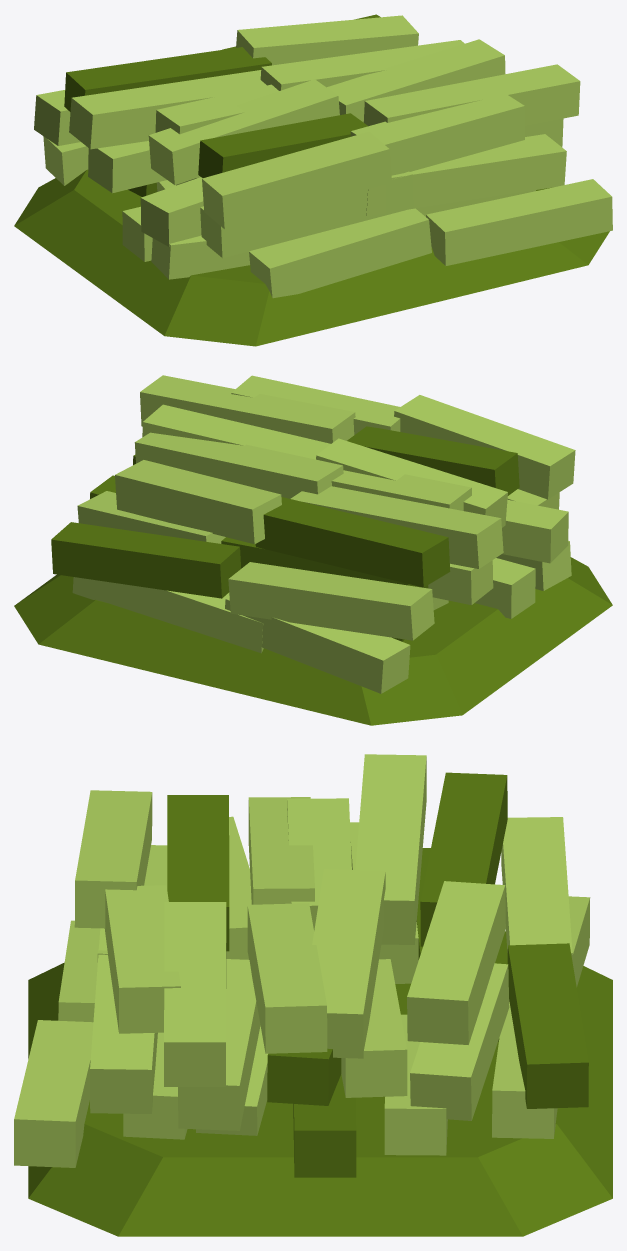
File: SM_Cook_Topping_Cucumber_01.fbx
The picture shows the model from 3 angles, top to bottom: view 1: azimuth 30°, elevation 25°; view 2: azimuth 150°, elevation 25°; view 3: azimuth 270°, elevation 25°; orthographic projection. The views are drawn at different scales.
Visible parts, largest first — view 1: SM_Cook_Topping_Cucumber_01; view 2: SM_Cook_Topping_Cucumber_01; view 3: SM_Cook_Topping_Cucumber_01.
Boxes of the visible parts, x1,y1,x2,y2 form: SM_Cook_Topping_Cucumber_01: (14,14,612,346); SM_Cook_Topping_Cucumber_01: (14,375,612,725); SM_Cook_Topping_Cucumber_01: (14,754,612,1236).
Bounding box in the file's own units: 0.124 × 0.0394 × 0.1065.
1 material, 1 textured.
